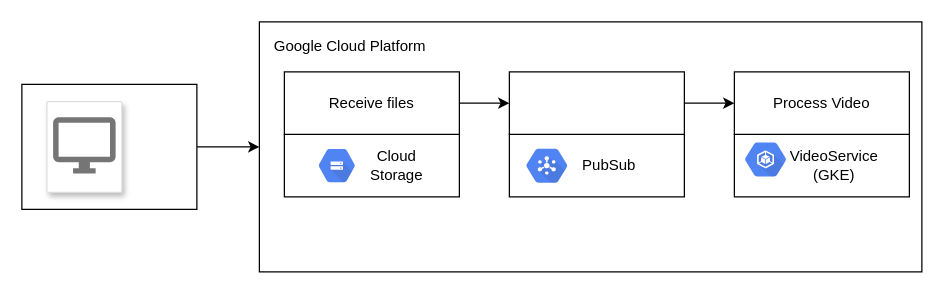
The diagram is 944 pixels wide and 294 high, and some of its shapes have lost their labels. The centre of each missing label's shape, as x and y in pixels:
Asynchronous: pixel 596 102
Clients: pixel 85 148
